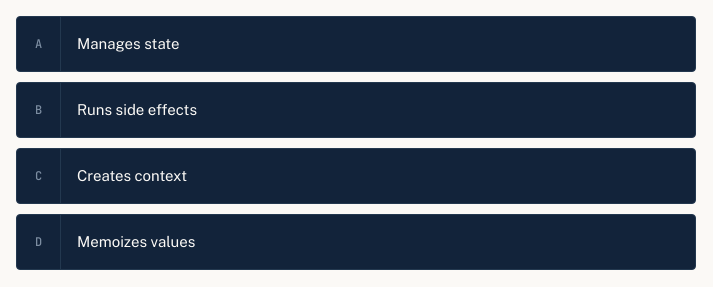
it: MCQQuestion › all options disabled after one selection
Click the text "Manages state". click: coordinates (128, 44)
box: [77,35,180,52]
Wait 200 ms
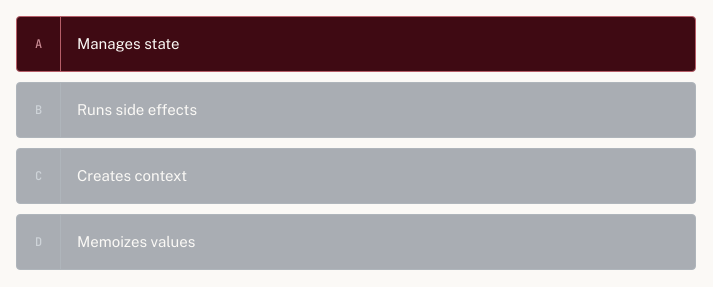
Check: the radio button labelled "A Manages state" is disabled, box [16,16,696,72]
Check: the radio button labelled "B Runs side effects" is disabled, box [16,82,696,138]
Check: the radio button labelled "C Creates context" is disabled, box [16,148,696,204]
